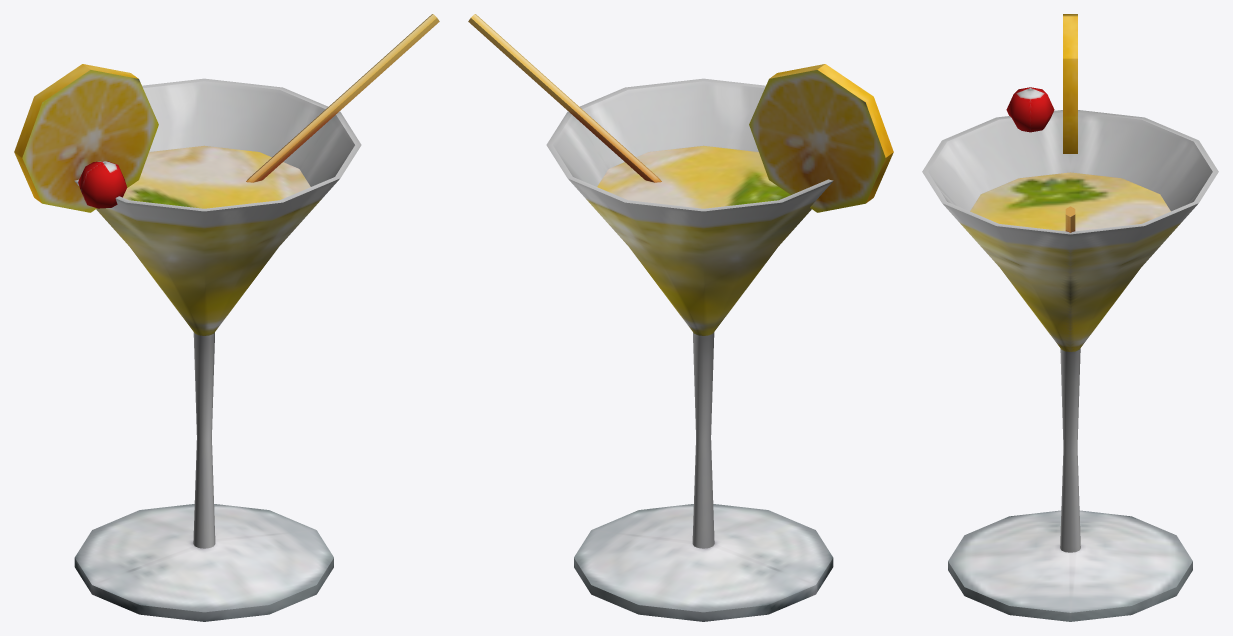
The model's file is PiErSenGongYu_01_jiweijiu_01.FBX.
3 renders of one model, left to right at view 1: azimuth 30°, elevation 25°; view 2: azimuth 150°, elevation 25°; view 3: azimuth 270°, elevation 25°, orthographic. The views are drawn at different scales.
Parts seen in each view (by area): view 1: PiErSenDeGongYu_jiweijiu_01; view 2: PiErSenDeGongYu_jiweijiu_01; view 3: PiErSenDeGongYu_jiweijiu_01.
Boxes of the visible parts, x1,y1,x2,y2 form: PiErSenDeGongYu_jiweijiu_01: (14, 14, 439, 621); PiErSenDeGongYu_jiweijiu_01: (468, 14, 893, 621); PiErSenDeGongYu_jiweijiu_01: (922, 14, 1218, 621).
Size of the model in its own units: 61.64 by 74.11 by 39.92.
